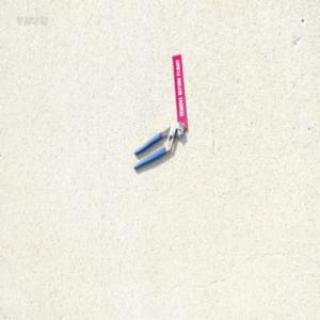LuggageTagtrack_idkeyframe: (170, 52, 187, 129)
Pliertrack_idkeyframe: (132, 120, 183, 170)
